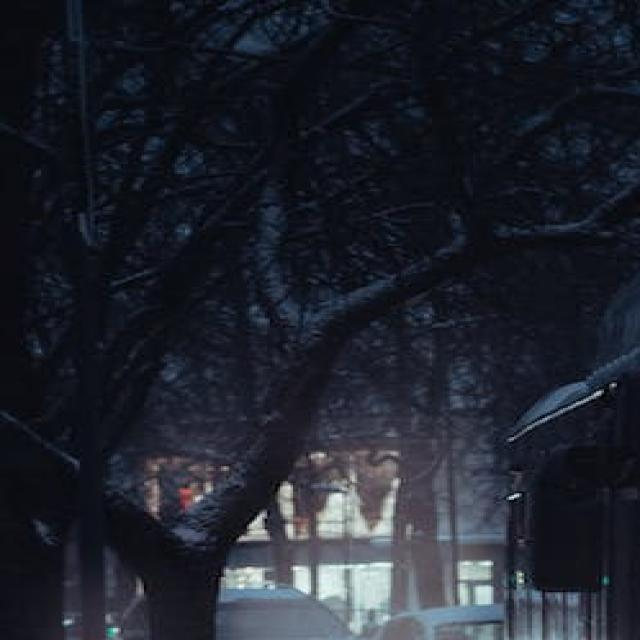bus: (501, 210, 640, 640)
car: (105, 583, 370, 640), (352, 599, 506, 640)
